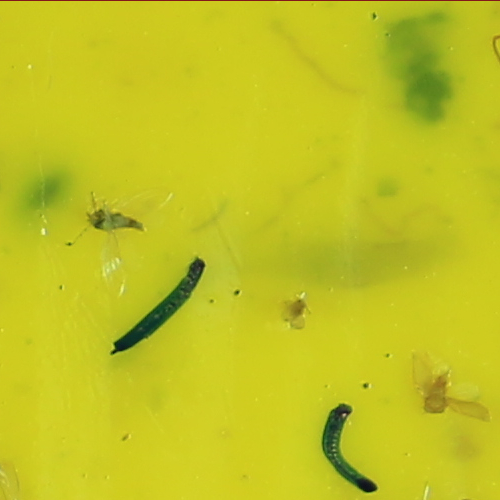Glycaspis: (81, 202, 149, 241)
Platyobria: (419, 366, 457, 416)
